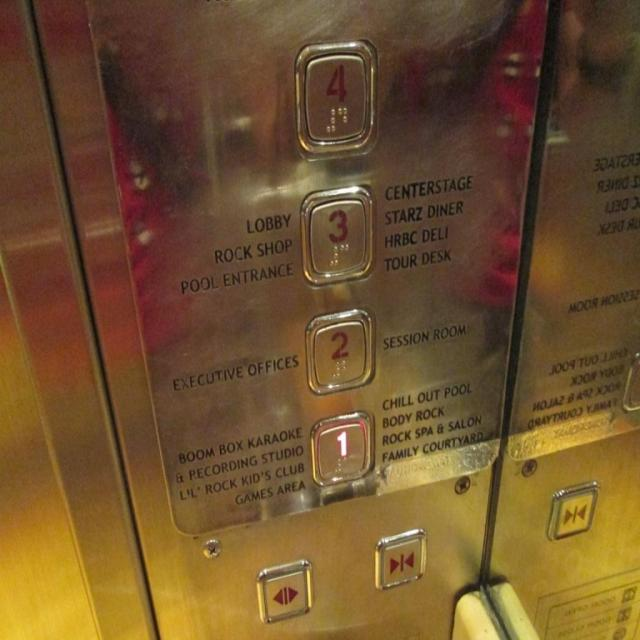1: (307, 405, 376, 488)
2: (300, 302, 378, 398)
3: (294, 181, 381, 290)
4: (289, 35, 382, 162)
close: (544, 474, 599, 548), (371, 523, 428, 594)
open: (252, 554, 315, 629)
